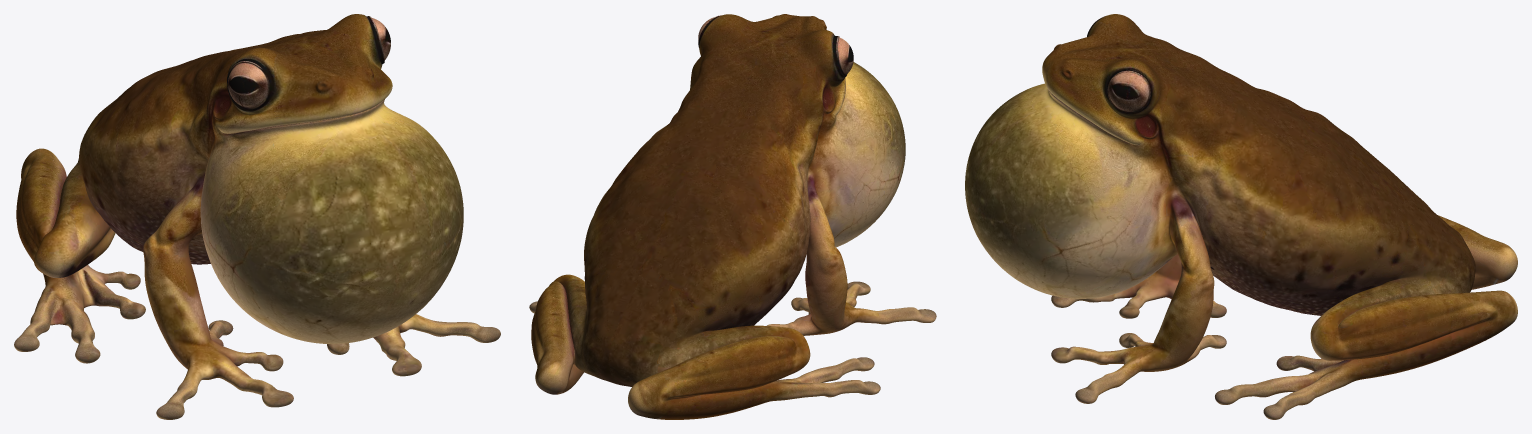
File: rana.glb
The picture shows the model from 3 angles, left to right: view 1: azimuth 30°, elevation 25°; view 2: azimuth 150°, elevation 25°; view 3: azimuth 270°, elevation 25°; orthographic projection. The views are drawn at different scales.
Size of the model in its own units: 1.47 by 1.11 by 1.9.
1 material, 1 textured.
